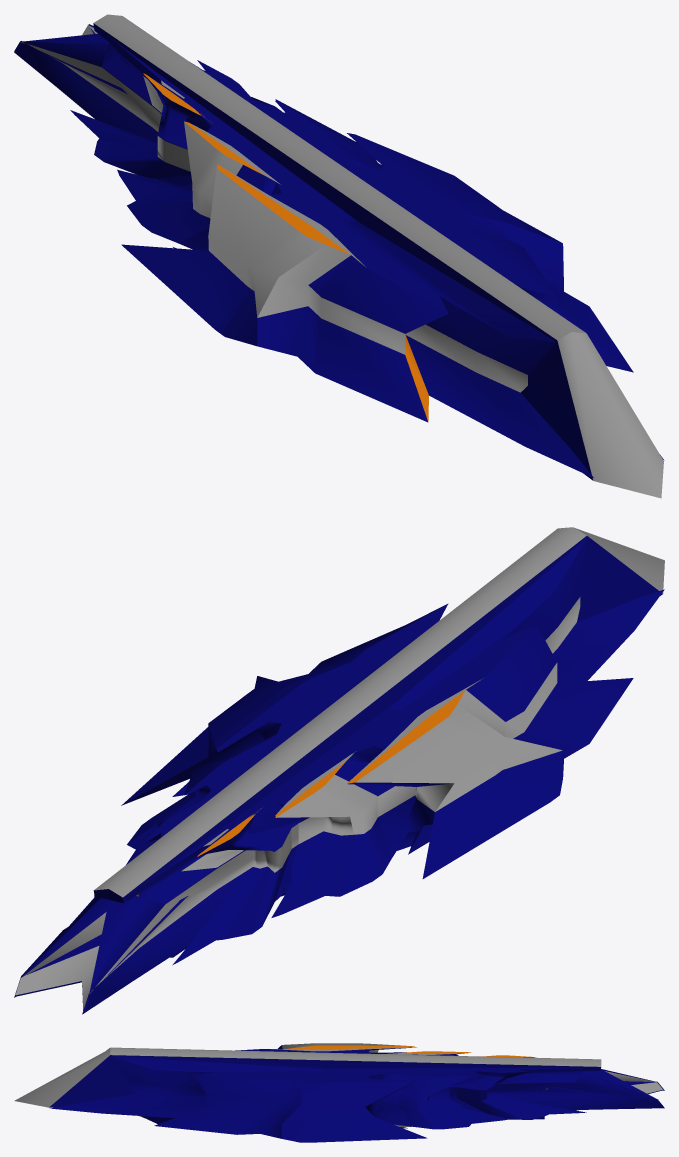
File: bluewhale.fbx
3 renders of one model, top to bottom at view 1: azimuth 30°, elevation 25°; view 2: azimuth 150°, elevation 25°; view 3: azimuth 270°, elevation 25°, orthographic. The views are drawn at different scales.
Parts seen in each view (by area): view 1: pCylinder26; view 2: pCylinder26; view 3: pCylinder26.
Boxes of the visible parts, left/top/right/bottom form: pCylinder26: left=14, top=14, right=664, bottom=498; pCylinder26: left=14, top=527, right=664, bottom=1014; pCylinder26: left=14, top=1043, right=664, bottom=1142.
Bounding box in the file's own units: 85.35 × 34.43 × 271.
